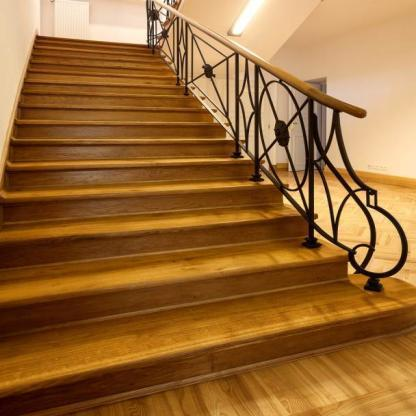stair: (2, 21, 308, 382)
